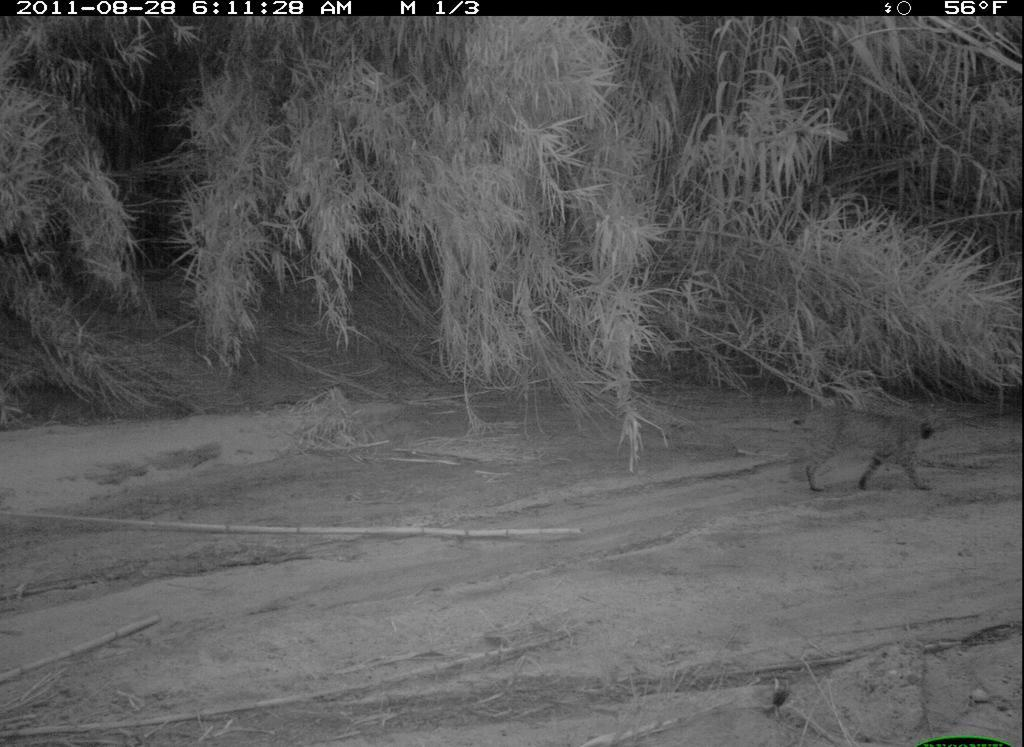bobcat: (780, 393, 950, 510)
